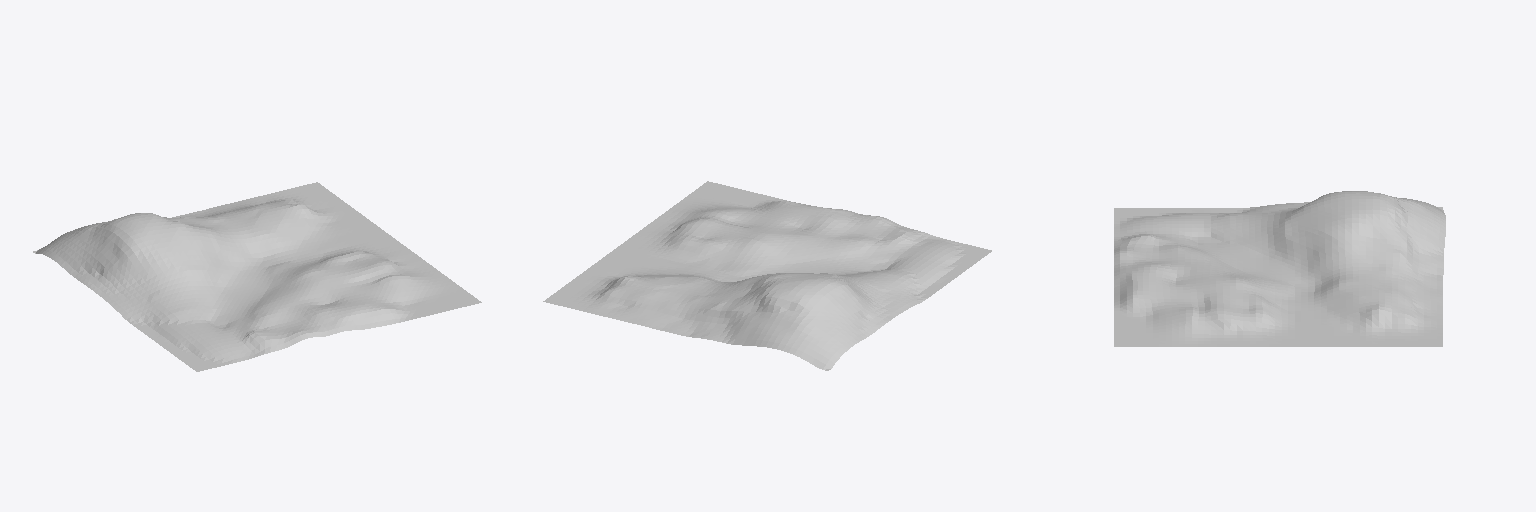
File: terrain.obj
The picture shows the model from 3 angles: view 1: azimuth 30°, elevation 25°; view 2: azimuth 150°, elevation 25°; view 3: azimuth 270°, elevation 25°; orthographic projection.
Visible parts, largest first — view 1: Plane; view 2: Plane; view 3: Plane.
Part boxes in pixels (left/top/right/bottom): Plane: left=33, top=182, right=481, bottom=371; Plane: left=543, top=181, right=991, bottom=370; Plane: left=1114, top=191, right=1445, bottom=346.
Bounding box in the file's own units: 12.05 × 1.69 × 12.1.